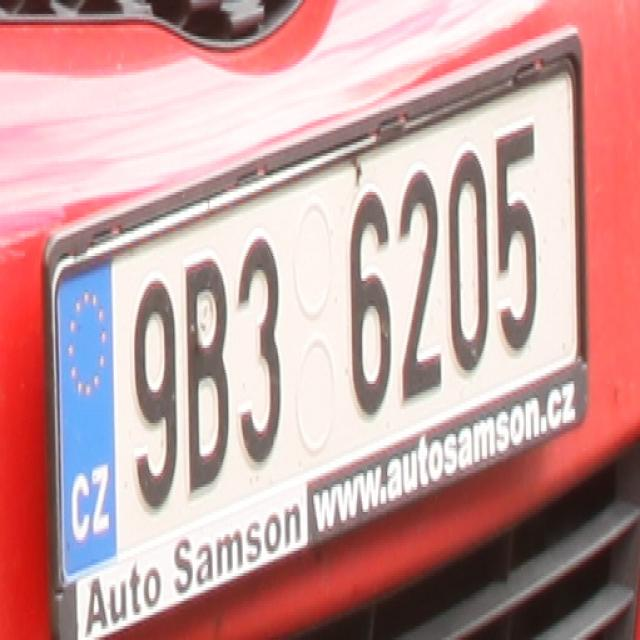0: (448, 150, 492, 365)
2: (398, 170, 441, 403)
3: (236, 234, 280, 481)
5: (492, 120, 542, 348)
6: (349, 186, 392, 418)
9: (132, 278, 176, 501)
B: (183, 259, 232, 498)
